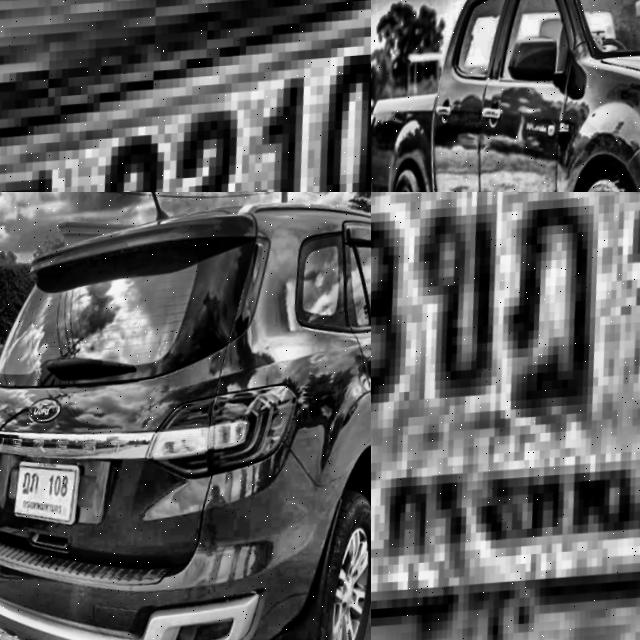license-plate: (371, 192, 640, 640), (0, 0, 371, 192), (16, 454, 93, 527)
